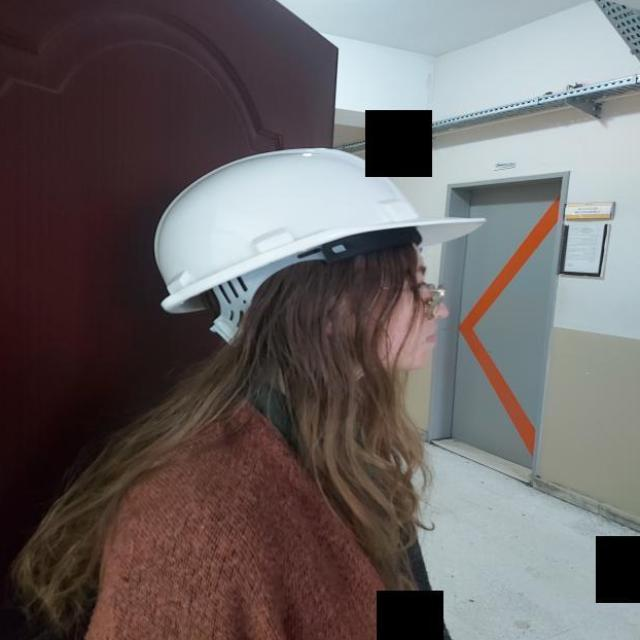helmet: (153, 146, 488, 343)
